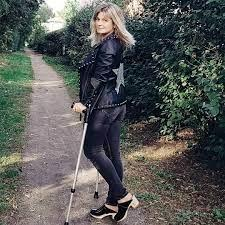crutches: (65, 3, 139, 225)
